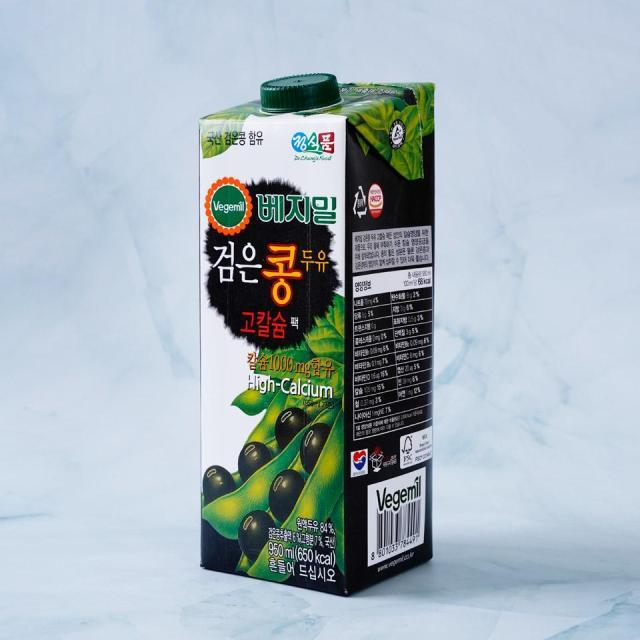Tetra: (202, 85, 444, 596)
